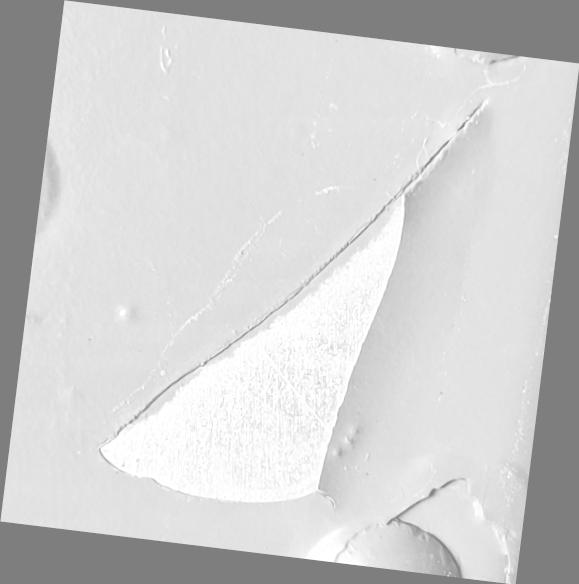paint-off: (1, 0, 579, 584)
